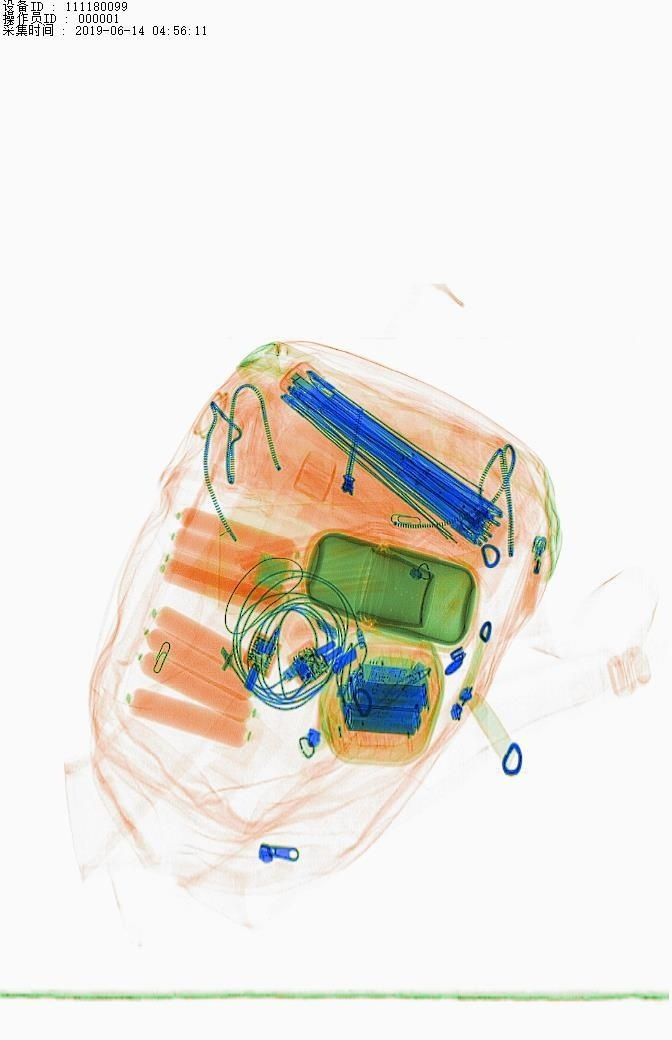NonmetallicFire: (502, 514, 577, 621)
